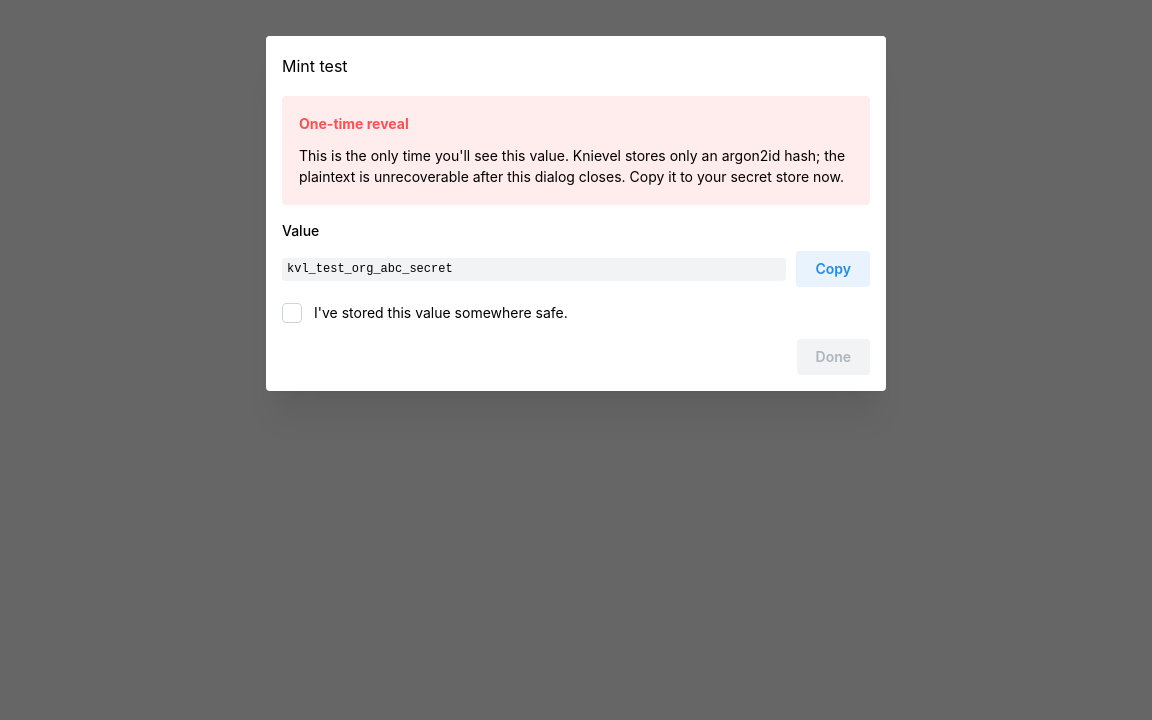
Test: MintRevealModal › disables Done until the checkbox is ticked
Later steps or results of the test are not shown.
What coordinates should you click on to do the following:
click the button with test id "mint-done"
I would click on:
 (833, 357)
Its box is [796,339,870,375].
What coordinates should you click on to do the following:
click the checkbox with test id "mint-stored-checkbox"
I would click on:
 (292, 313)
Its box is [282,303,302,323].
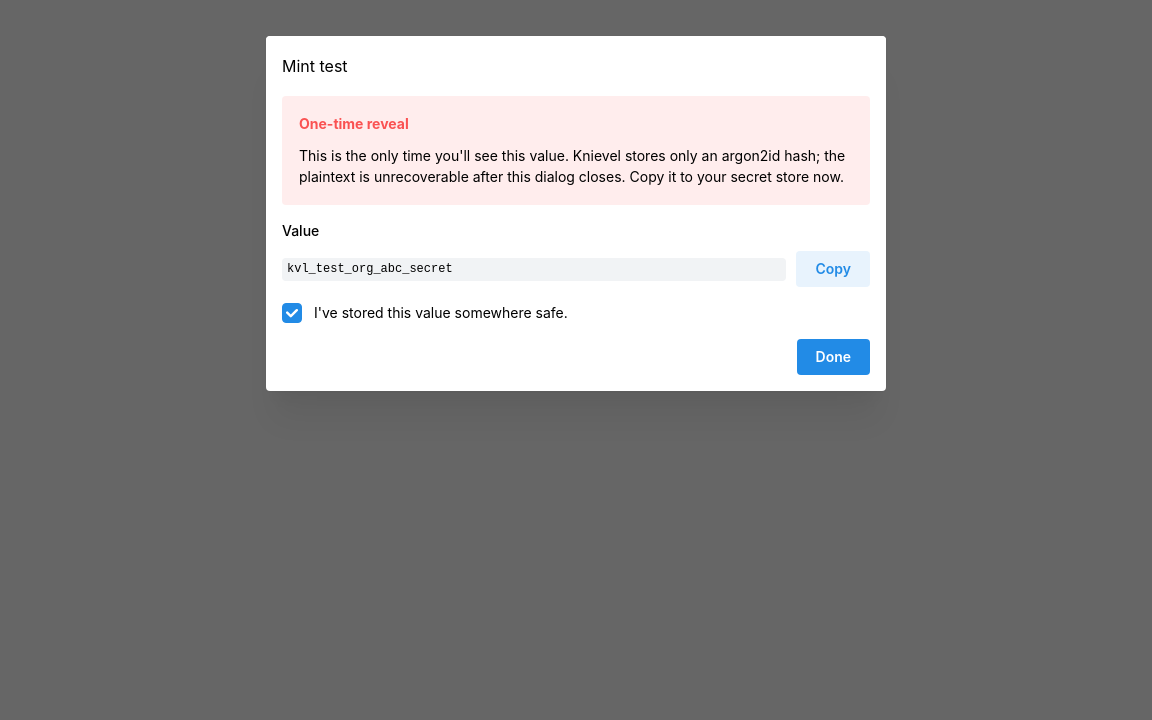
Expected: the button with test id "mint-done" is enabled, [796,339,870,375]
